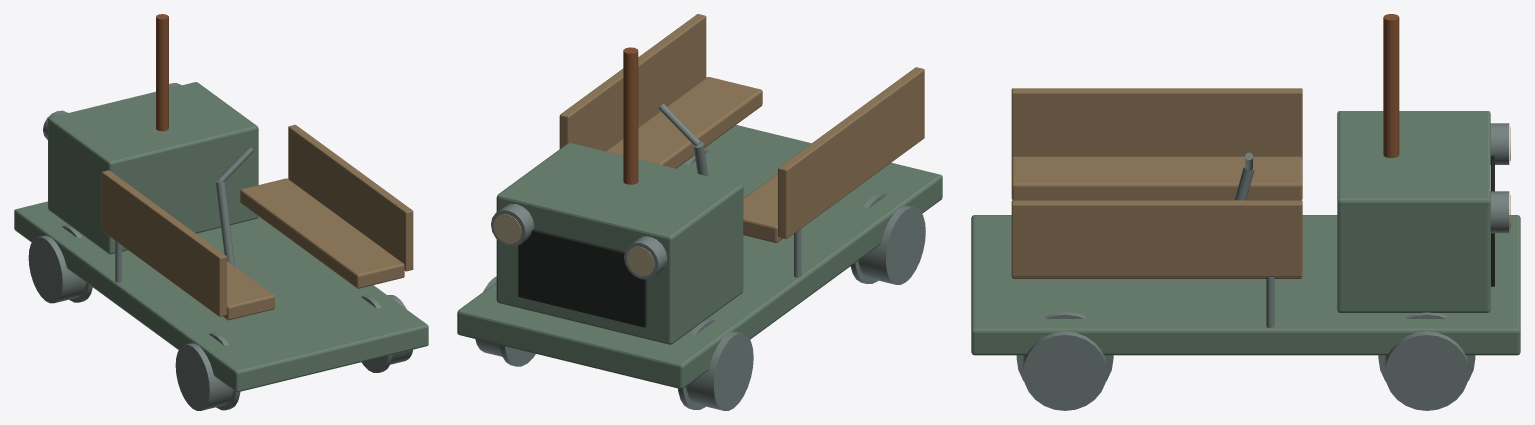
Rendered from forest_cart.glb.
3 renders of one model, left to right at view 1: azimuth 30°, elevation 25°; view 2: azimuth 150°, elevation 25°; view 3: azimuth 270°, elevation 25°, orthographic. The views are drawn at different scales.
Parts seen in each view (by area): view 1: forest_cart; view 2: forest_cart; view 3: forest_cart.
Boxes of the visible parts, left/top/right/bottom form: forest_cart: left=14, top=14, right=428, bottom=410; forest_cart: left=457, top=14, right=942, bottom=410; forest_cart: left=971, top=14, right=1520, bottom=410.
Size of the model in its own units: 1.8 by 2.31 by 3.4.
